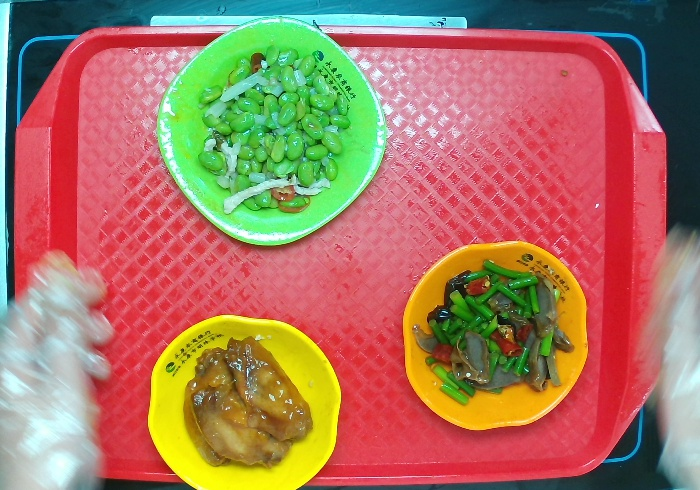YKMZ-Huang_Se_Ao_Bian_Wan: (145, 312, 343, 490)
YKMZ-Ju_Se_Ao_Bian_Wan: (401, 240, 590, 430)
YKMZ-Lv_Se_Fang_Die: (155, 14, 389, 250)
